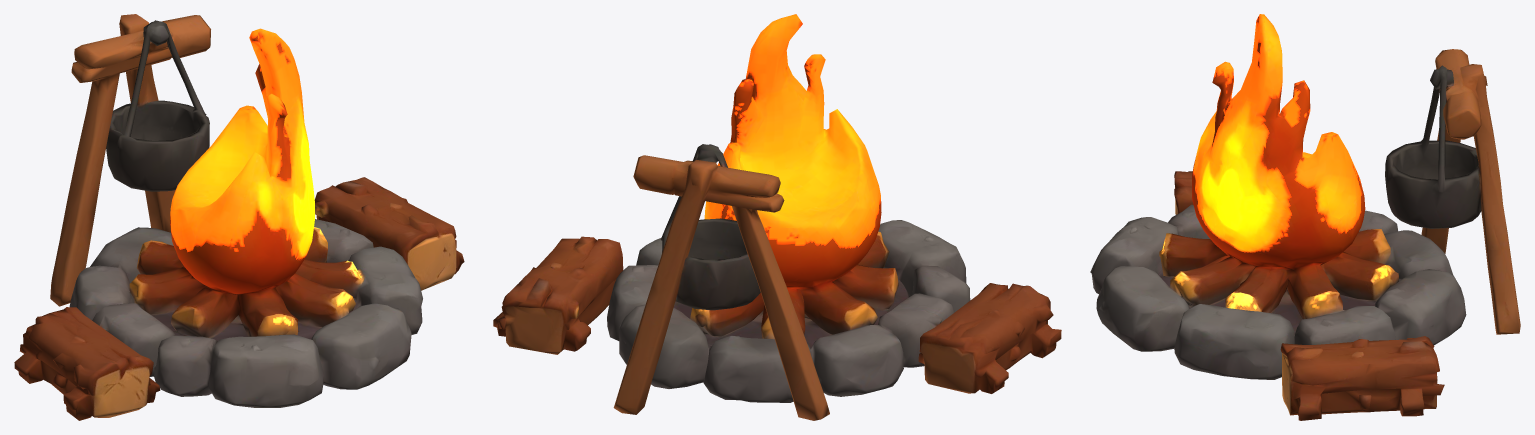
File: campfire-CyauXjpz.glb
3 views of the same model, side by side, from view 1: azimuth 30°, elevation 25°; view 2: azimuth 150°, elevation 25°; view 3: azimuth 270°, elevation 25° (orthographic). The views are drawn at different scales.
Visible parts, largest first — view 1: tripo_node_5b77bd6b-0ca4-4e9a-8fbd-358edb71011f; view 2: tripo_node_5b77bd6b-0ca4-4e9a-8fbd-358edb71011f; view 3: tripo_node_5b77bd6b-0ca4-4e9a-8fbd-358edb71011f.
Boxes of the visible parts, bbox=[...] form: tripo_node_5b77bd6b-0ca4-4e9a-8fbd-358edb71011f: bbox=[14, 14, 464, 420]; tripo_node_5b77bd6b-0ca4-4e9a-8fbd-358edb71011f: bbox=[493, 14, 1061, 420]; tripo_node_5b77bd6b-0ca4-4e9a-8fbd-358edb71011f: bbox=[1090, 14, 1520, 420].
Size of the model in its own units: 1 by 0.6633 by 0.8505.
1 material, 1 textured.
